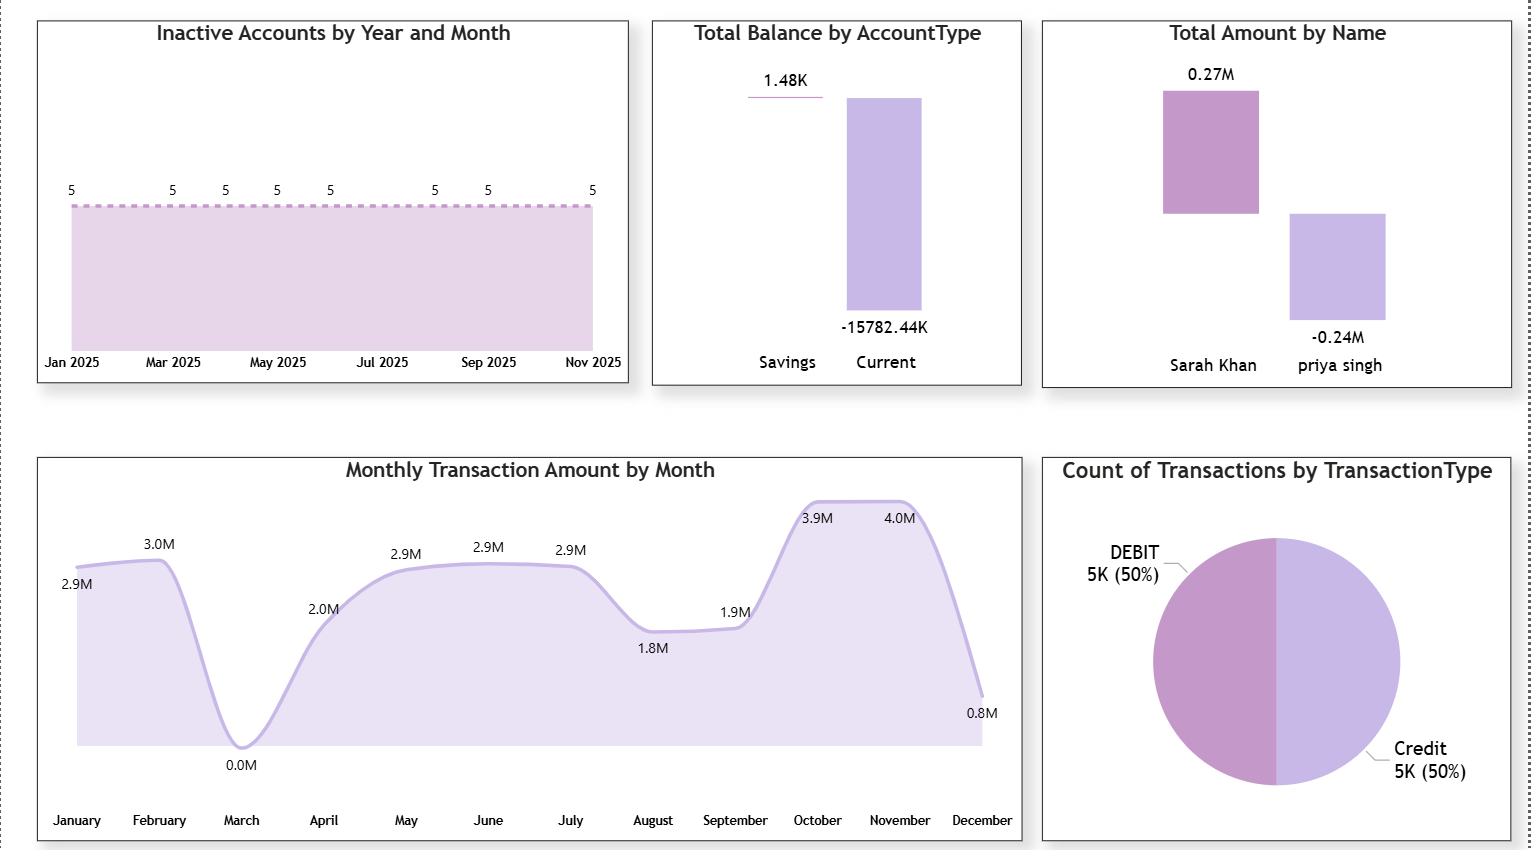

What the dashboard file says about the page in this screenshot:
{"tool":"powerbi","page":{"name":"Page 1","canvas":[1280,720],"ordinal":0},"visuals":[{"type":"pieChart","fields":{"Category":["CombinedBankingDataset.TransactionType"],"Y":["Measures Table.Count of Transactions"]},"box":[872.6,389.8,393.5,321.9],"z":0},{"type":"areaChart","fields":{"Category":["CombinedBankingDataset.TransactionDate.Variation.Date Hierarchy.Month"],"Y":["Measures Table.Monthly Transaction Amount"]},"box":[30,390,826,322],"z":1000},{"type":"clusteredColumnChart","title":"Total Amount by Name","fields":{"Category":["CombinedBankingDataset.Name"],"Y":["Sum(CombinedBankingDataset.Amount)"]},"box":[872,24,394,308],"z":2000},{"type":"clusteredColumnChart","fields":{"Category":["CombinedBankingDataset.AccountType"],"Y":["Measures Table.Total Balance"]},"box":[546,24,310,306],"z":3000},{"type":"lineChart","fields":{"Category":["CombinedBankingDataset.TransactionDate.Variation.Date Hierarchy.Year","CombinedBankingDataset.TransactionDate.Variation.Date Hierarchy.Month"],"Y":["Measures Table.Inactive Accounts"]},"box":[30,24,496,304],"z":4000}]}

Visuals, with their boxes in screenshot pixels (x1, y1, x2, y2), scaled from the page's 1280x720 canvas onto the 1531x850 screenshot:
pieChart - CombinedBankingDataset.TransactionType x Measures Table.Count of Transactions: [x1=1044, y1=460, x2=1514, y2=840]
areaChart - CombinedBankingDataset.TransactionDate.Variation.Date Hierarchy.Month x Measures Table.Monthly Transaction Amount: [x1=36, y1=460, x2=1024, y2=841]
"Total Amount by Name" clusteredColumnChart: [x1=1043, y1=28, x2=1514, y2=392]
clusteredColumnChart - CombinedBankingDataset.AccountType x Measures Table.Total Balance: [x1=653, y1=28, x2=1024, y2=390]
lineChart - CombinedBankingDataset.TransactionDate.Variation.Date Hierarchy.Year x CombinedBankingDataset.TransactionDate.Variation.Date Hierarchy.Month: [x1=36, y1=28, x2=629, y2=387]
